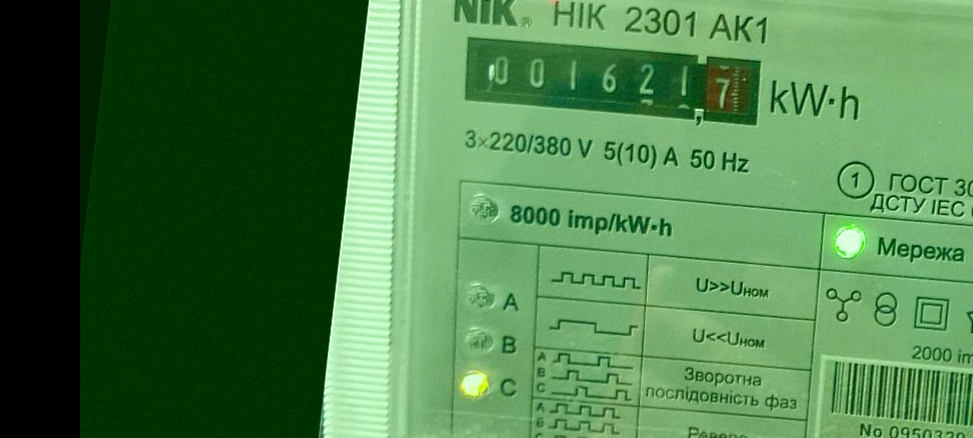0: (525, 53, 551, 93), (490, 51, 514, 87)
1: (676, 61, 694, 99), (565, 56, 583, 93)
2: (636, 60, 661, 98)
6: (599, 60, 622, 96)
7: (710, 74, 734, 112)
screen: (456, 24, 771, 140)
